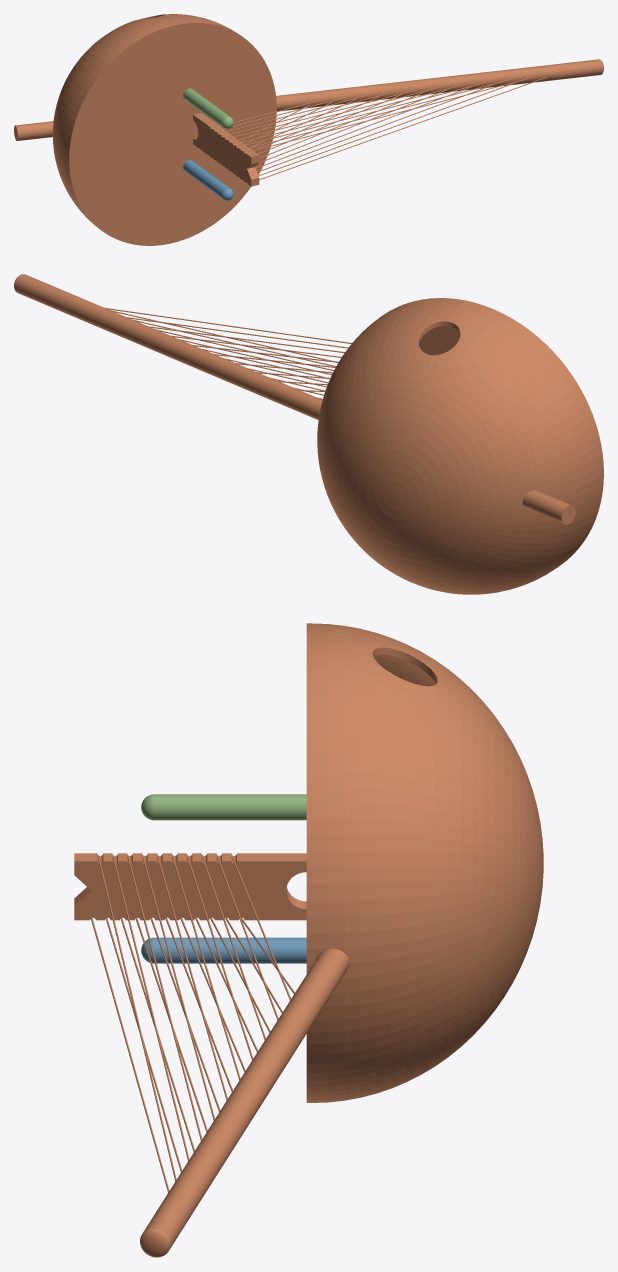
Rendered from kora-arena-winner.glb.
3 renders of one model, top to bottom at view 1: azimuth 30°, elevation 25°; view 2: azimuth 150°, elevation 25°; view 3: azimuth 270°, elevation 25°, orthographic. The views are drawn at different scales.
Parts seen in each view (by area): view 1: body_0, body_2, body_1; view 2: body_0; view 3: body_0, body_2, body_1.
Boxes of the visible parts, x1,y1,x2,y2 form: body_0: (14, 14, 603, 245); body_2: (183, 88, 233, 128); body_1: (183, 160, 233, 200); body_0: (14, 274, 603, 594); body_0: (74, 623, 543, 1257); body_2: (141, 794, 306, 820); body_1: (141, 937, 319, 963).
Bounding box in the file's own units: 1269 × 516 × 505.
